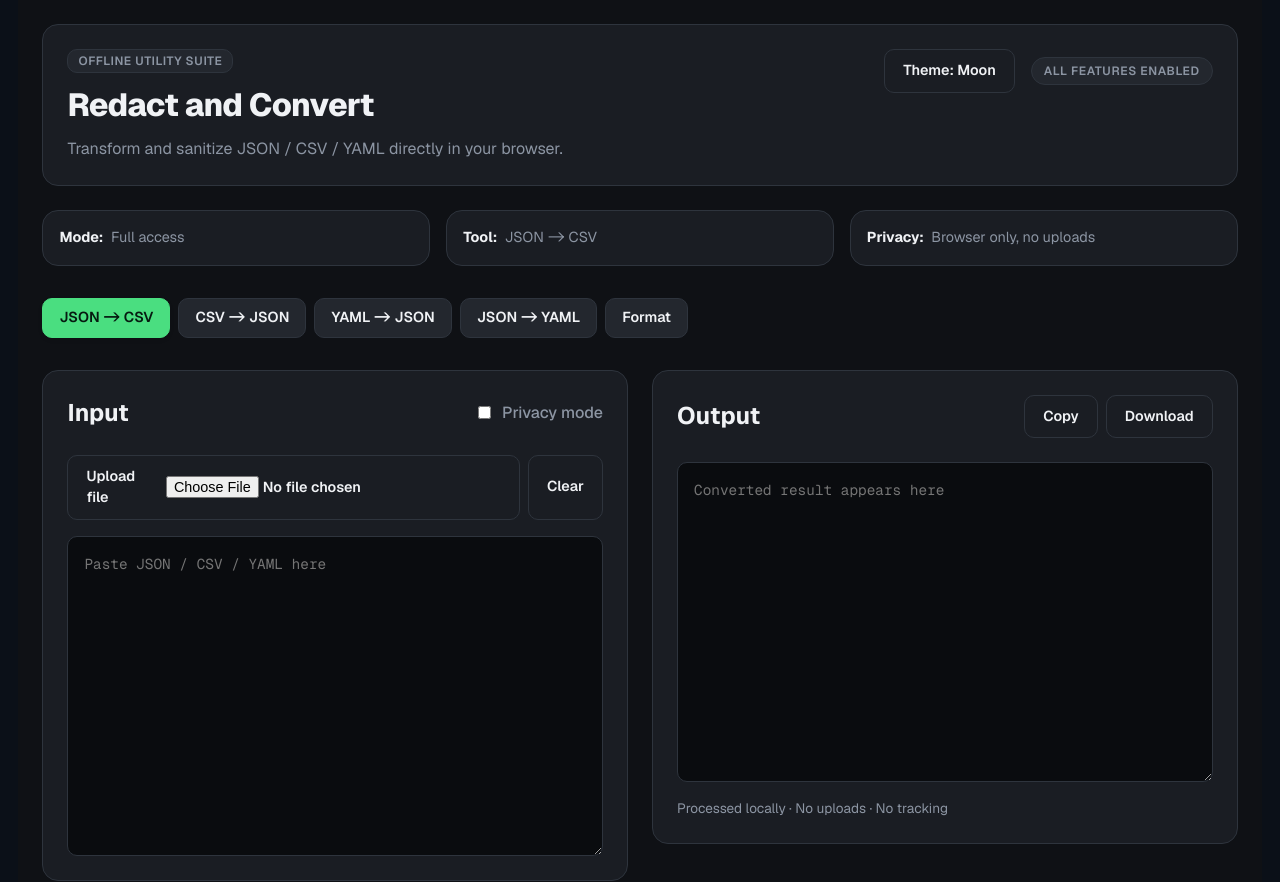
it: App integration › shows error text when convert action throws
Type "bad" into the text box with placeholder "Paste JSON / CSV / YAML here" at [335, 696], box [67, 536, 603, 856]
(page scrolled)
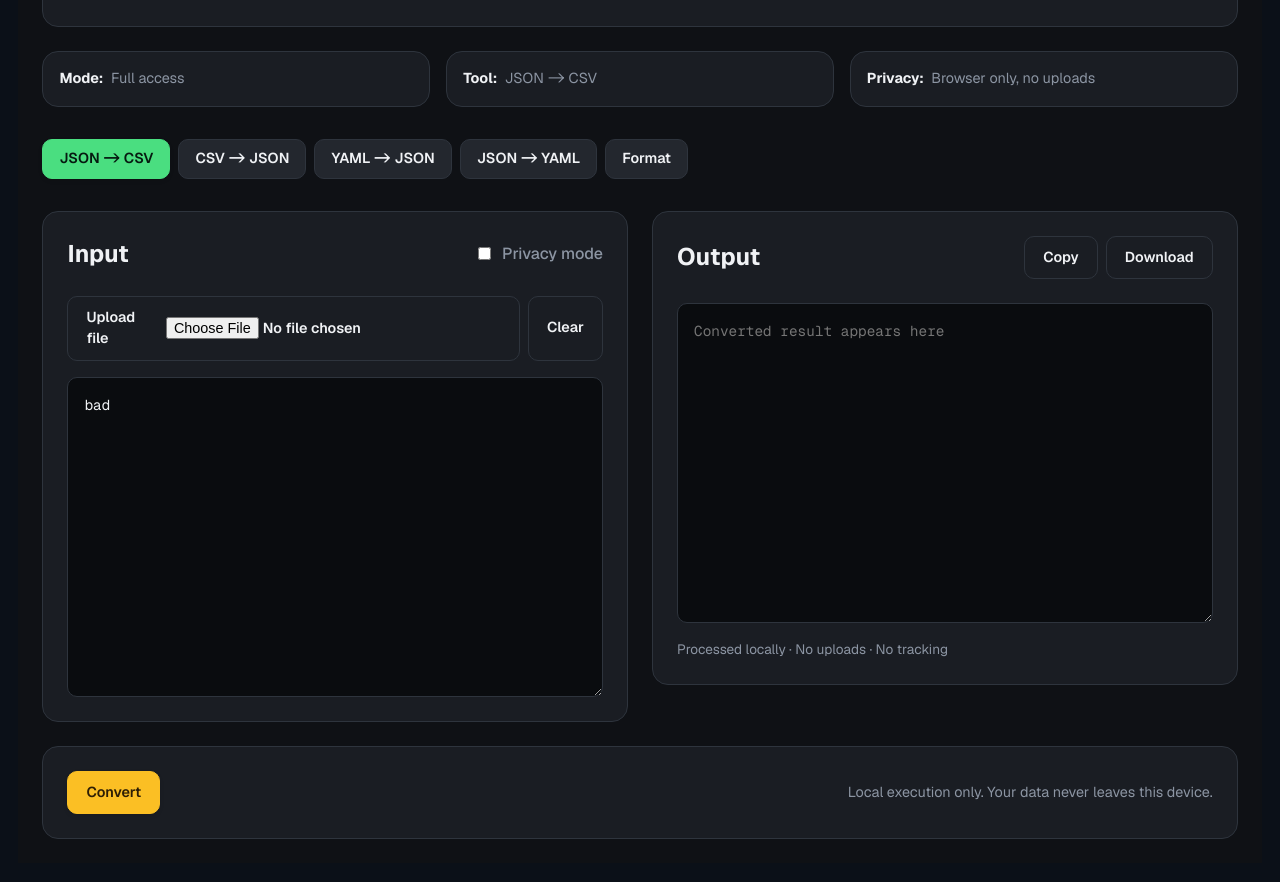
Click the button "Convert" at [114, 793], box [67, 771, 160, 814]
(page scrolled)
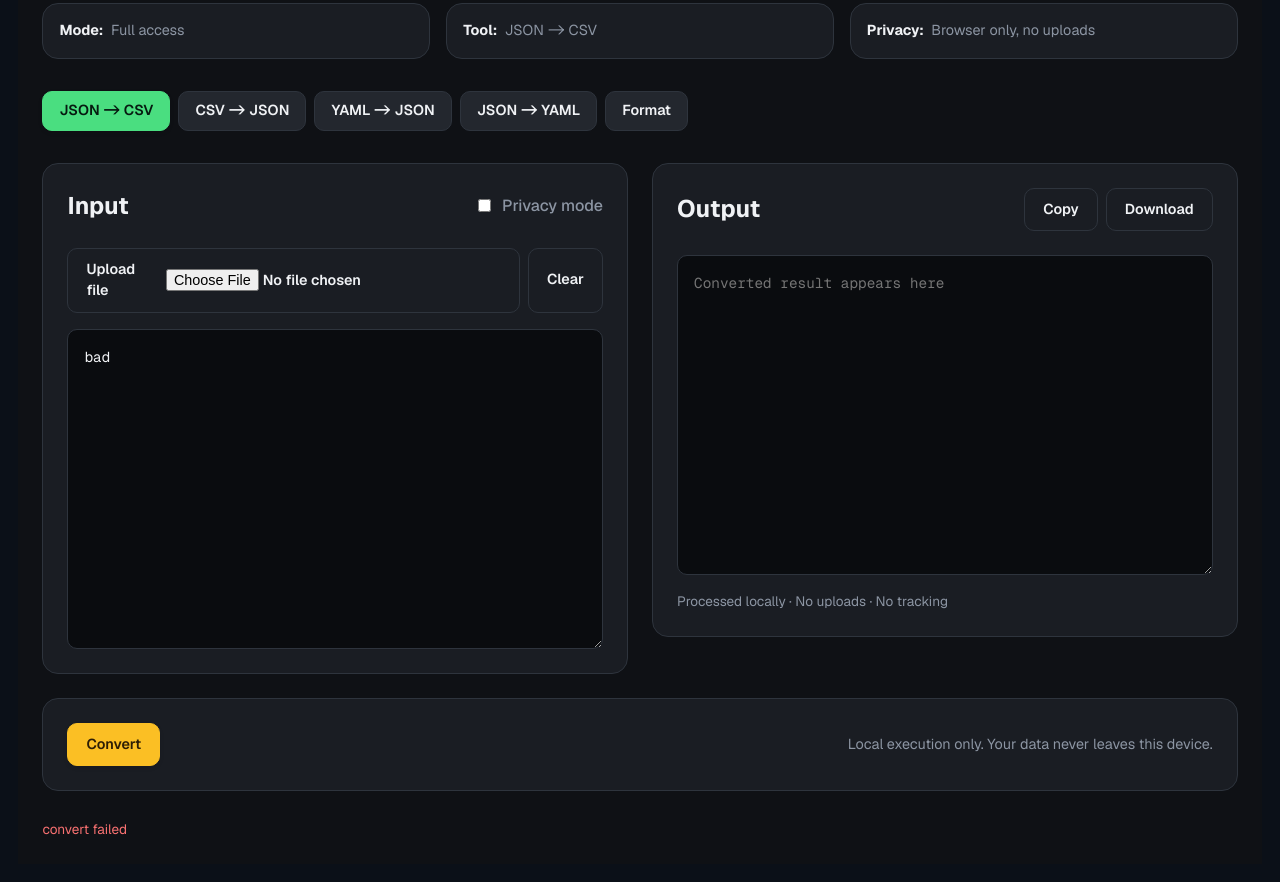
Result: the message with class "error-text" reads "convert failed" at [42, 820, 127, 838]
